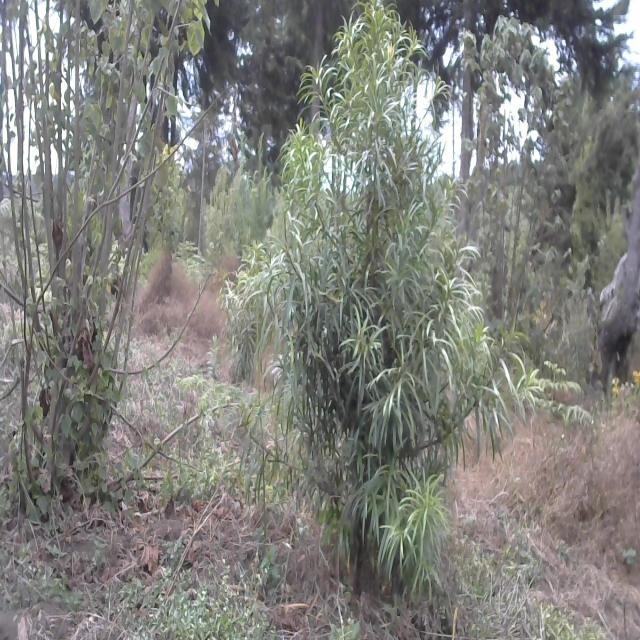Croton machrostychus: (0, 0, 210, 507), (453, 19, 576, 338)
Podocarpus falcatus: (224, 0, 517, 600)
